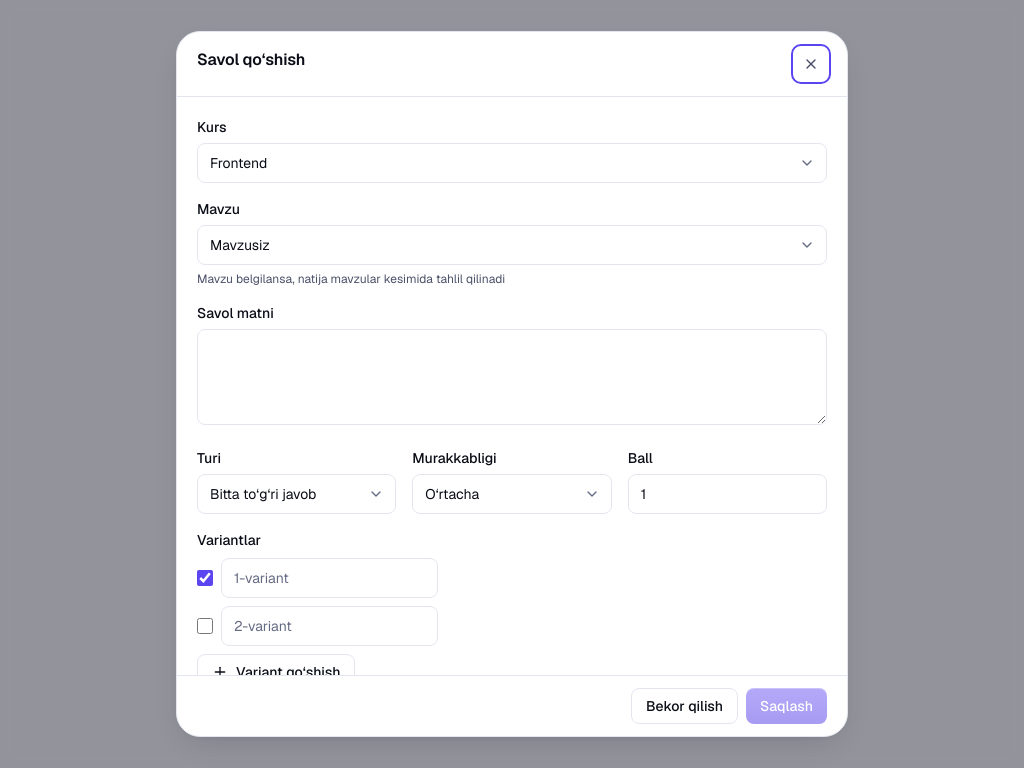
it: QuestionFormModal › kod savoli — o‘qituvchi tekshirishi haqida ogohlantirish
Select "Kod yozish (qo‘lda)" in the dropdown labelled "Turi" at (297, 494), box left=197, top=474, right=396, bottom=514
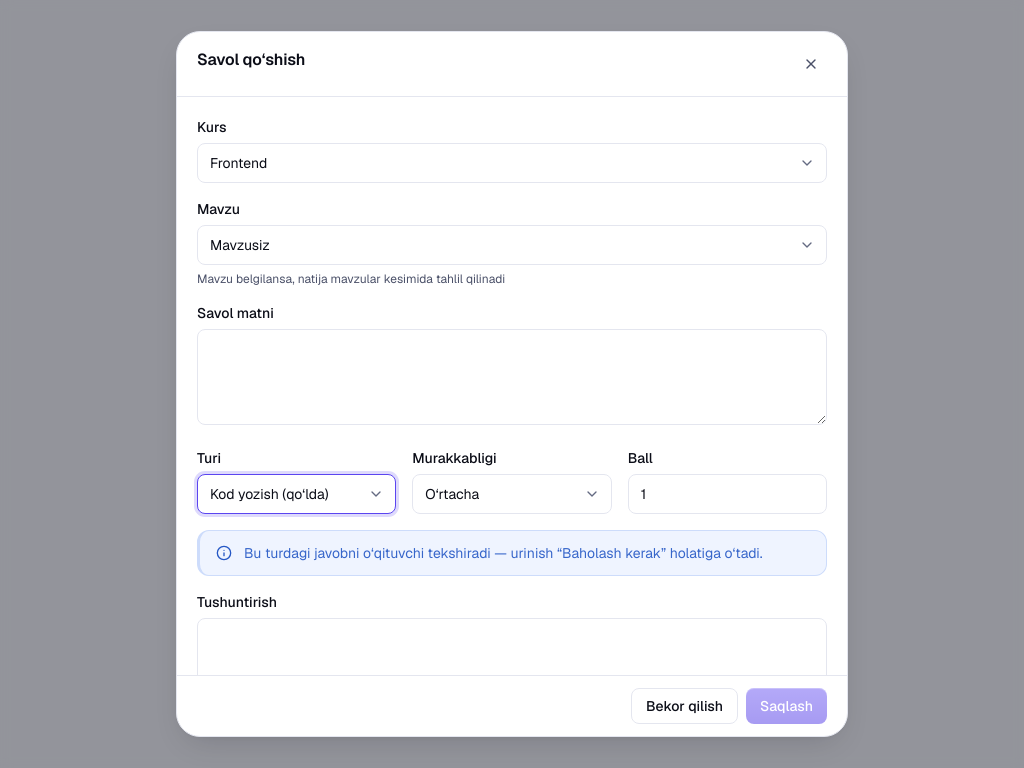
Expected: the text "o‘qituvchi tekshiradi" is shown, left=244, top=544, right=762, bottom=562
